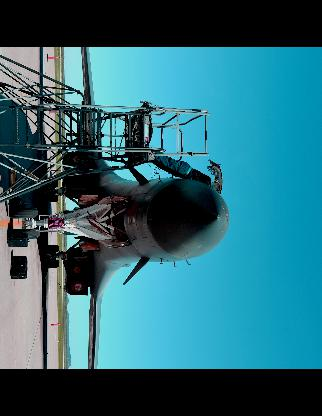AV8B: (7, 48, 230, 368)
